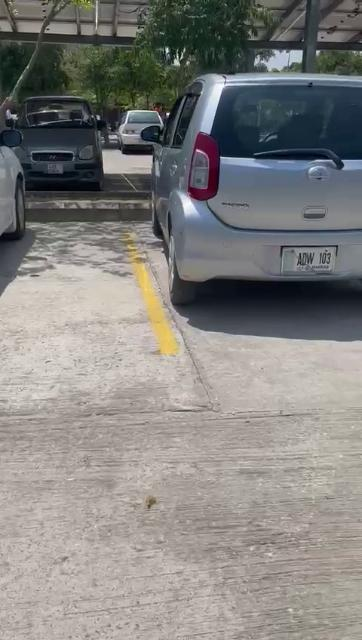plate: (276, 242, 340, 276)
